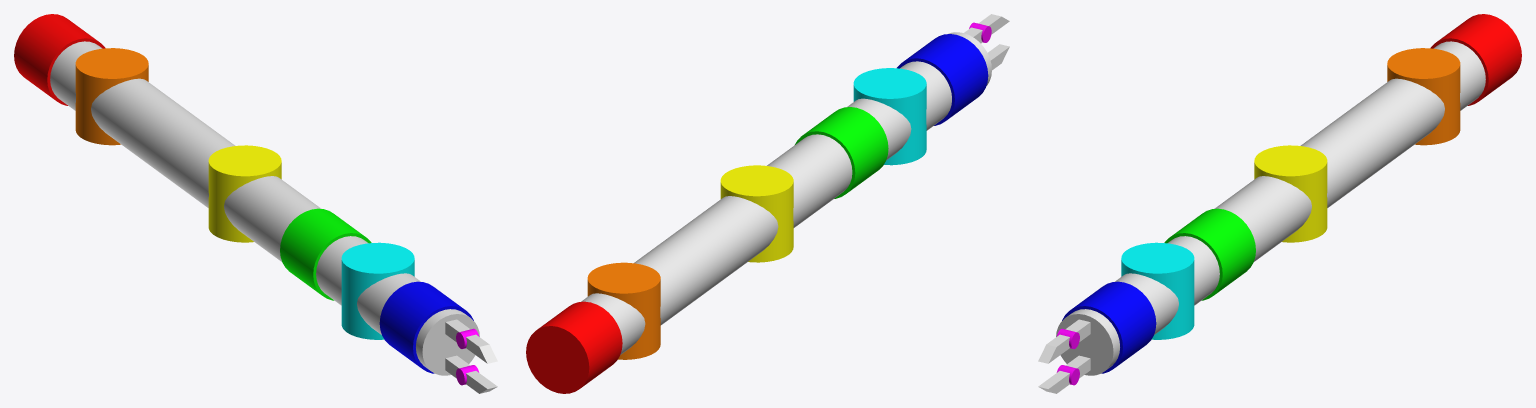
The model's file is pommesgabel.glb.
The picture shows the model from 3 angles, left to right: view 1: azimuth 30°, elevation 25°; view 2: azimuth 150°, elevation 25°; view 3: azimuth 330°, elevation 25°; orthographic projection.
Visible parts, largest first — view 1: upperArm, forearm, shoulder, wrist1, wrist2, base, hand, finger1, finger2; view 2: upperArm, forearm, base, wrist1, shoulder, wrist2, hand; view 3: upperArm, forearm, shoulder, wrist1, wrist2, base, hand, finger1, finger2.
Part boxes in pixels (x1,y1,x2,y2): upperArm: (91, 78, 281, 242); forearm: (224, 176, 371, 300); shoulder: (50, 41, 148, 145); wrist1: (316, 236, 414, 339); wrist2: (357, 273, 473, 373); base: (14, 14, 105, 105); hand: (416, 309, 479, 385); finger1: (466, 334, 497, 363); finger2: (466, 371, 497, 393); upperArm: (634, 165, 793, 325); forearm: (767, 107, 888, 227); base: (526, 301, 622, 393); wrist1: (847, 68, 926, 165); shoulder: (581, 262, 660, 359); wrist2: (897, 34, 988, 130); hand: (948, 22, 991, 85); upperArm: (1254, 78, 1444, 242); forearm: (1164, 176, 1311, 300); shoulder: (1387, 41, 1485, 145); wrist1: (1121, 236, 1219, 339); wrist2: (1062, 273, 1178, 373); base: (1430, 14, 1521, 105); hand: (1056, 309, 1119, 385); finger1: (1038, 334, 1069, 363); finger2: (1038, 371, 1069, 393).
Size of the model in its own units: 0.11 by 0.11 by 1.35.
